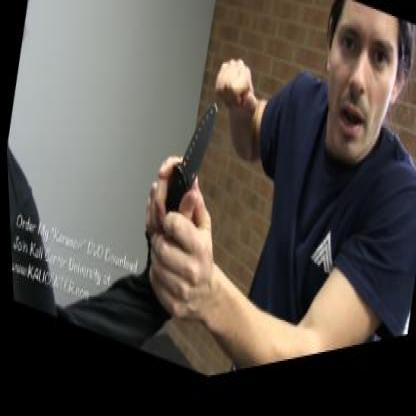knife: (129, 75, 223, 270)
